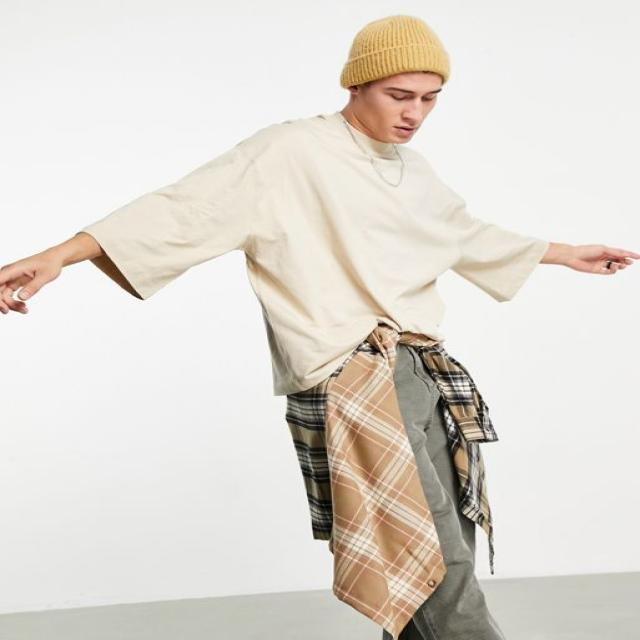tshirt: (76, 108, 552, 396)
